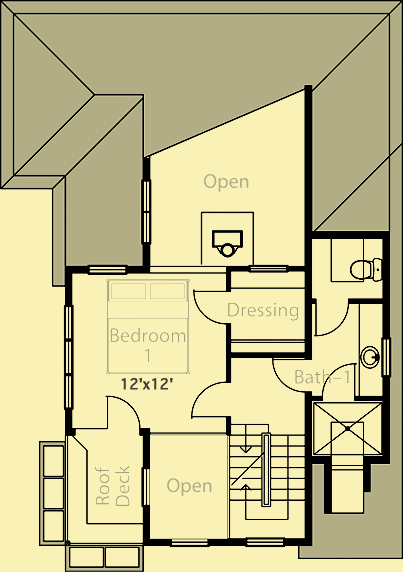bedroom has a double bed: (64, 265, 225, 433)
these are stairs to the other floors: (224, 414, 316, 551)
this bathroom has small and large sink and a shower space: (306, 228, 392, 464)
